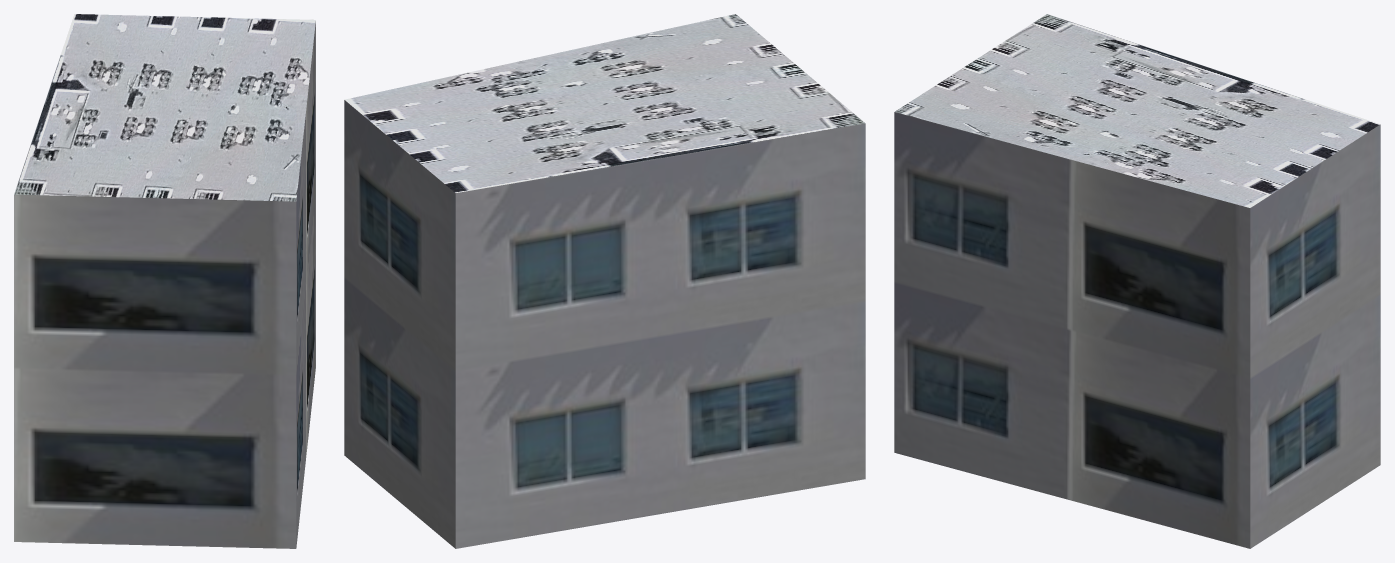
File: ResTex__3719.fbx
3 renders of one model, left to right at view 1: azimuth 30°, elevation 25°; view 2: azimuth 150°, elevation 25°; view 3: azimuth 270°, elevation 25°, orthographic. The views are drawn at different scales.
Visible parts, largest first — view 1: CityEngineMaterial_10_m, CityEngineMaterial_8_m; view 2: CityEngineMaterial_10_m, CityEngineMaterial_8_m; view 3: CityEngineMaterial_10_m, CityEngineMaterial_8_m.
Boxes of the visible parts, box(x1,y1,x2,y2) form: CityEngineMaterial_10_m: box(14, 21, 315, 548); CityEngineMaterial_8_m: box(14, 14, 315, 201); CityEngineMaterial_10_m: box(344, 100, 865, 548); CityEngineMaterial_8_m: box(344, 14, 865, 192); CityEngineMaterial_10_m: box(894, 112, 1380, 548); CityEngineMaterial_8_m: box(895, 14, 1379, 207).
Size of the model in its own units: 7.33 by 6 by 7.76.
2 materials, 2 textured.
